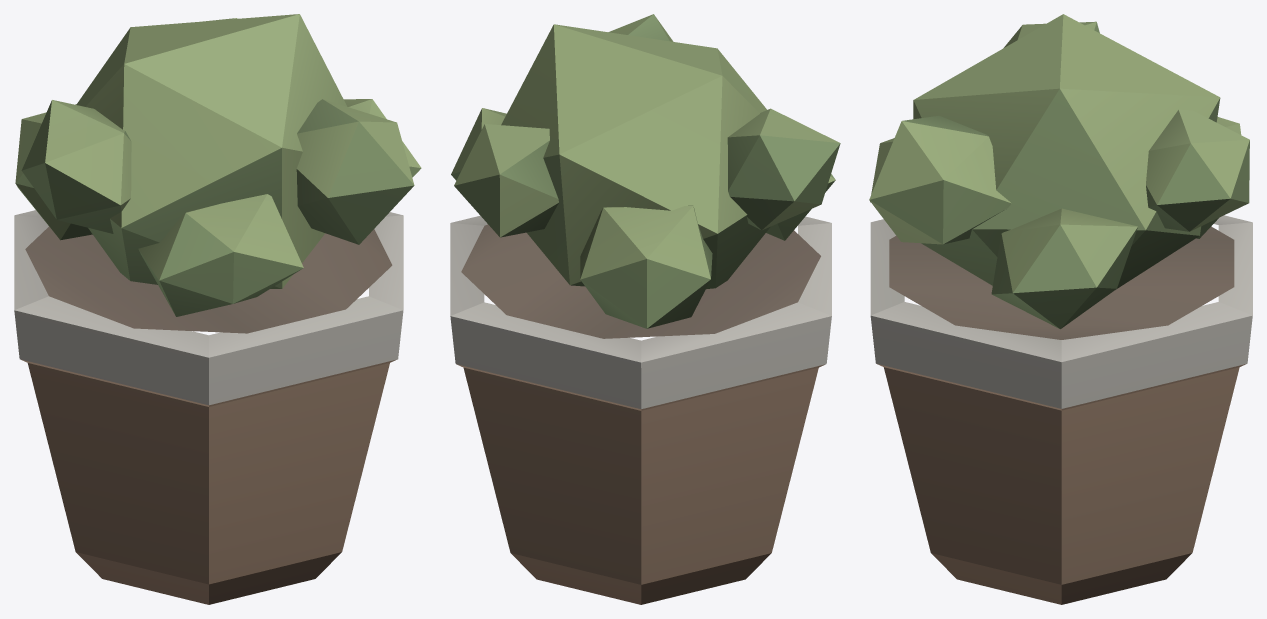
File: basil.lod1.glb
3 views of the same model, side by side, from view 1: azimuth 30°, elevation 25°; view 2: azimuth 150°, elevation 25°; view 3: azimuth 270°, elevation 25° (orthographic). The views are drawn at different scales.
Size of the model in its own units: 0.73 by 0.9278 by 0.6346.
